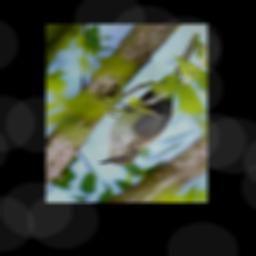Cuckoo: (98, 32, 202, 167)
